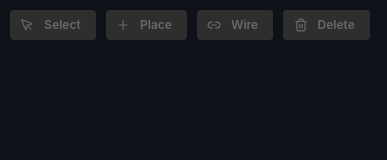
Test case: InteractiveSchematicToolbar › shows disabled reason tooltip when provided
Hover over the element showing "Select" at (53, 25), box [10,10,96,40]
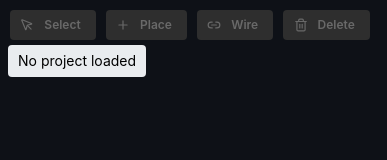
Result: the tooltip "No project loaded" is shown at [8,45,146,77]
